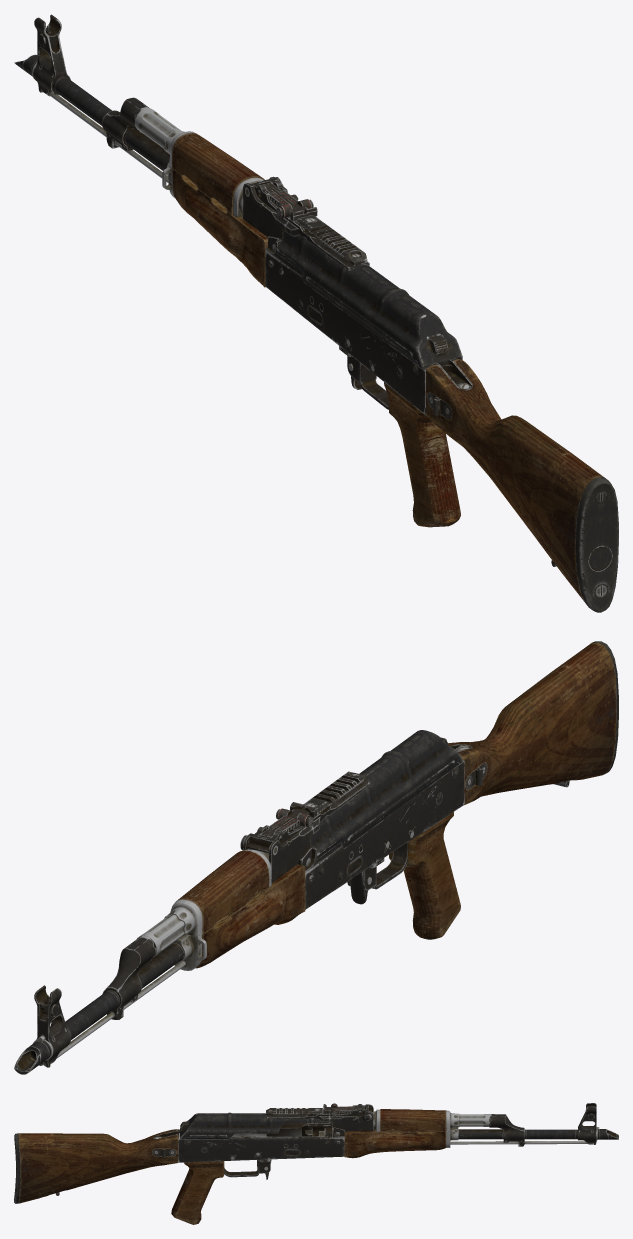
File: body.gltf
The picture shows the model from 3 angles, top to bottom: view 1: azimuth 30°, elevation 25°; view 2: azimuth 150°, elevation 25°; view 3: azimuth 270°, elevation 25°; orthographic projection. The views are drawn at different scales.
Parts seen in each view (by area): view 1: body; view 2: body; view 3: body.
Boxes of the visible parts, x1,y1,x2,y2 form: body: [14, 14, 618, 612]; body: [14, 641, 618, 1074]; body: [14, 1103, 618, 1224].
Size of the model in its own units: 0.056 by 0.224 by 1.03.
Materials: 1 (1 with a texture image).
